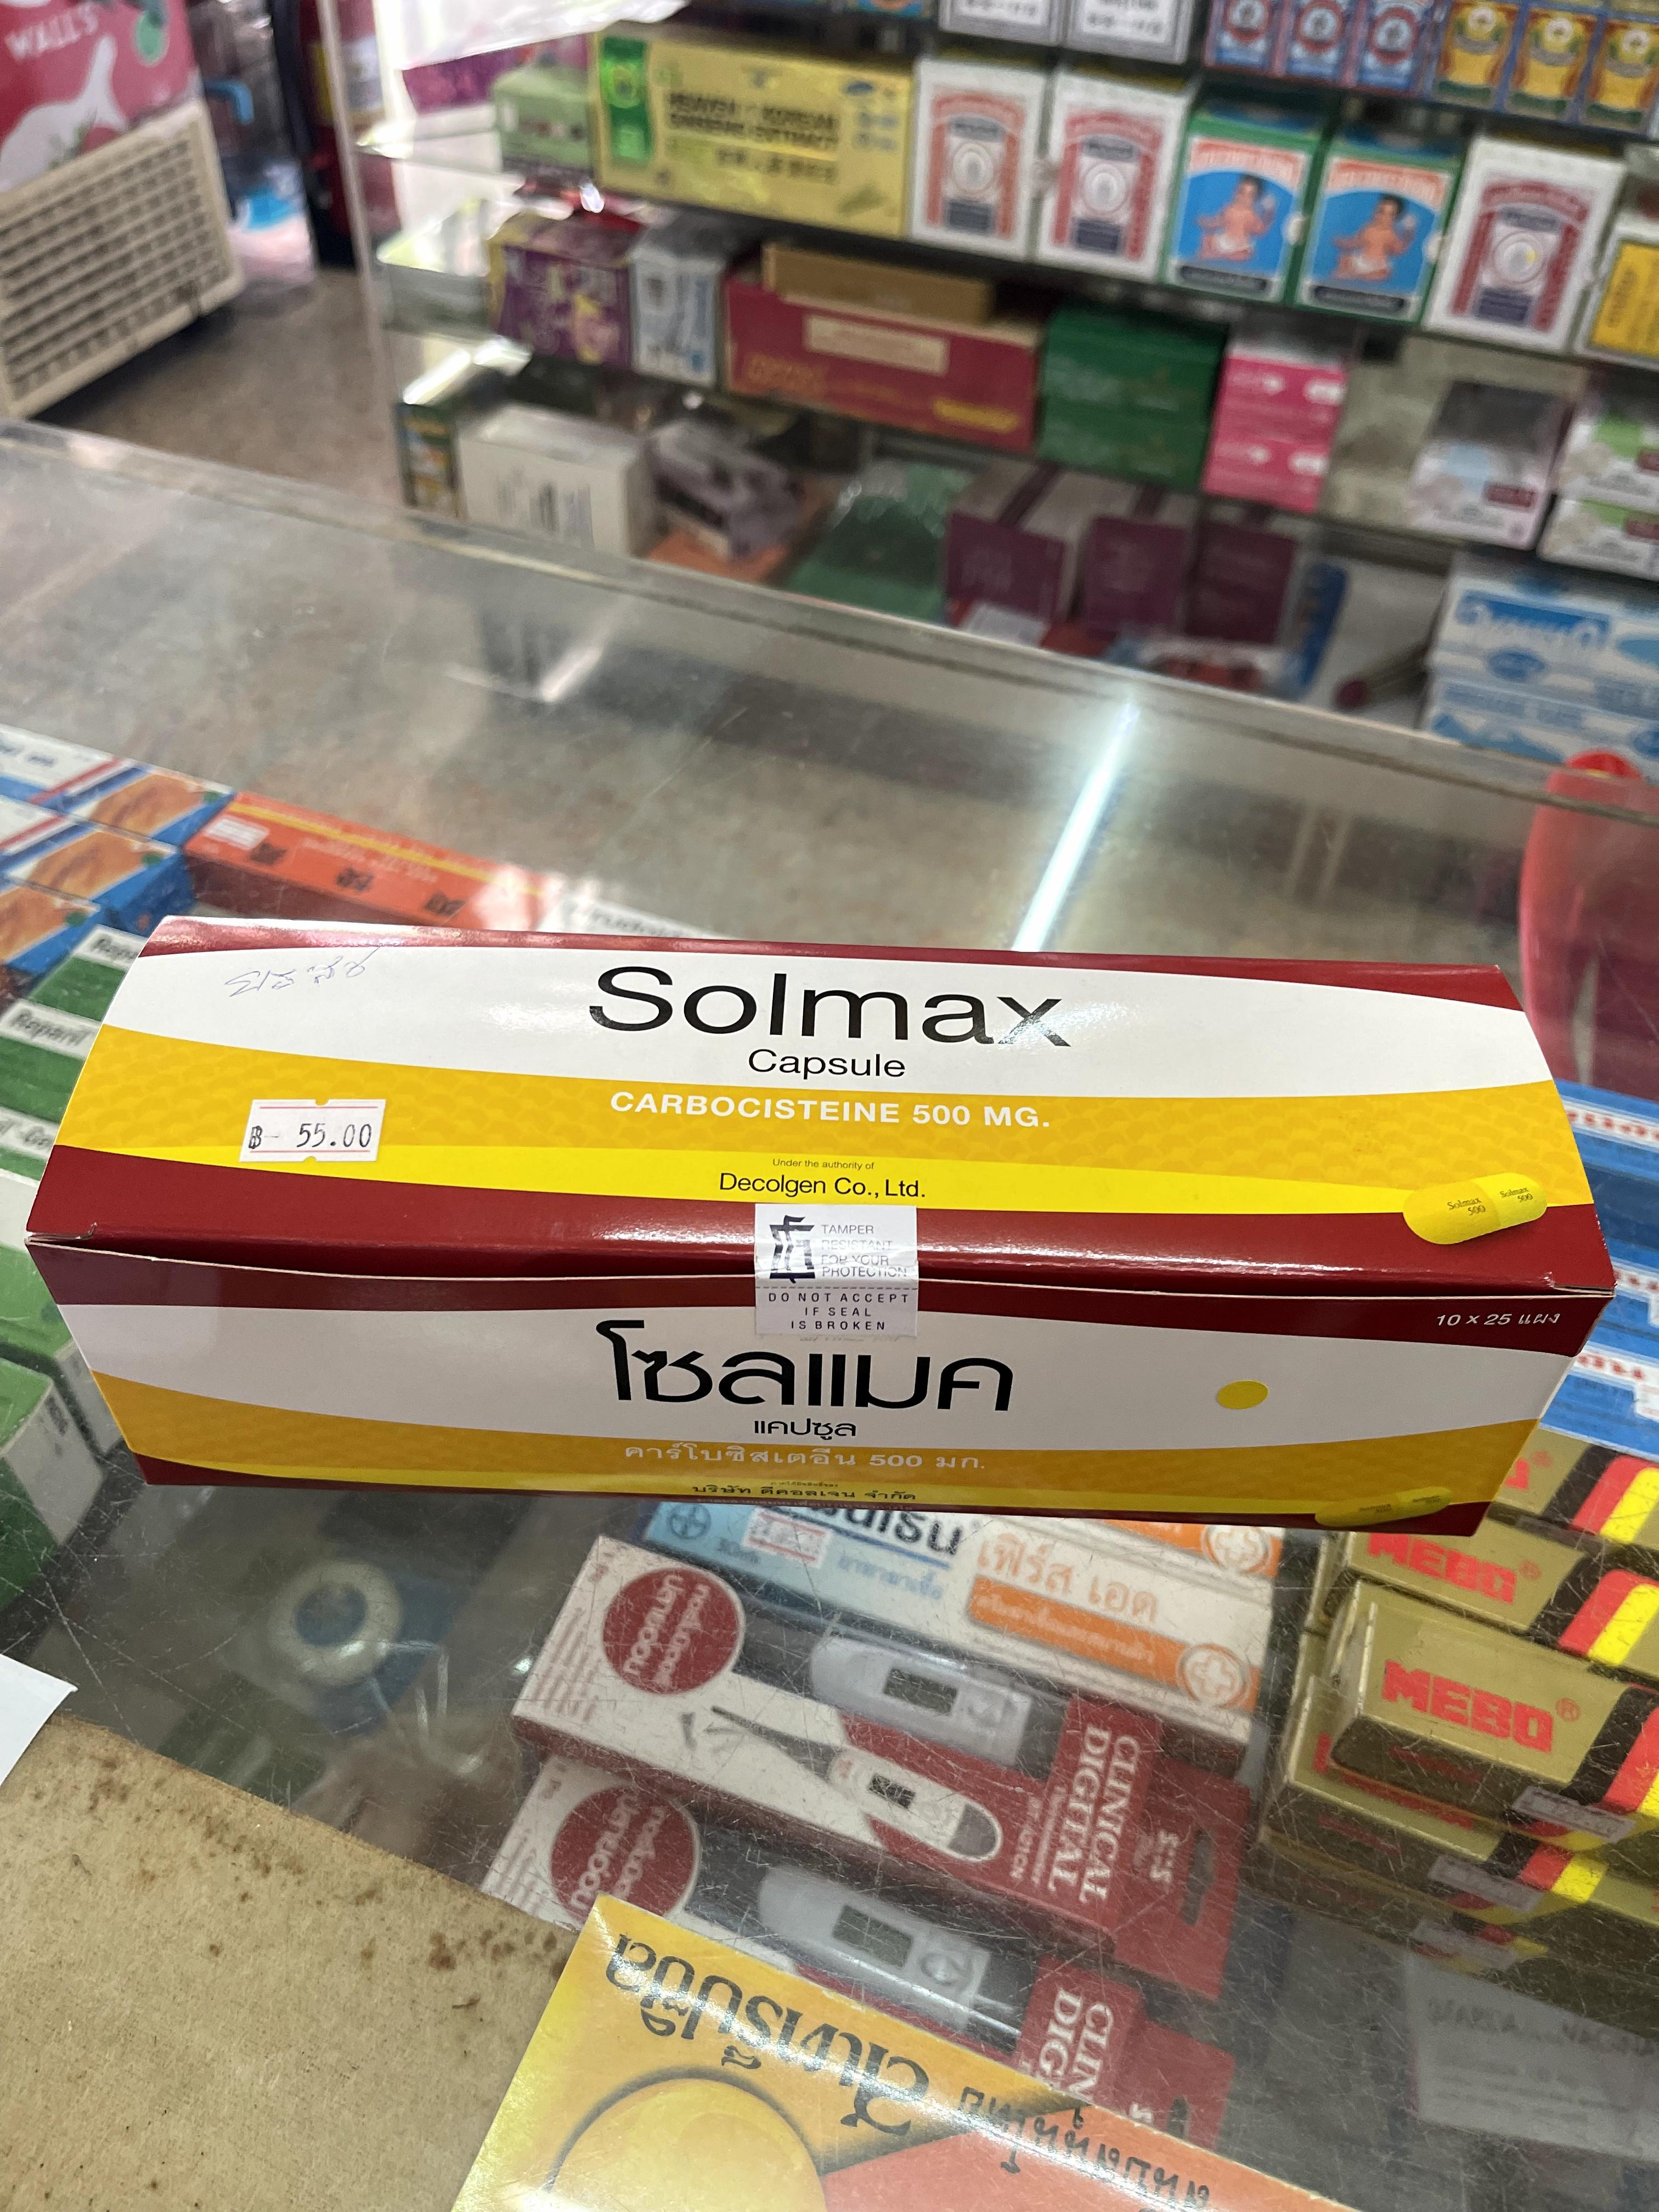Solmax-Capsule: (19, 906, 1621, 1545)
